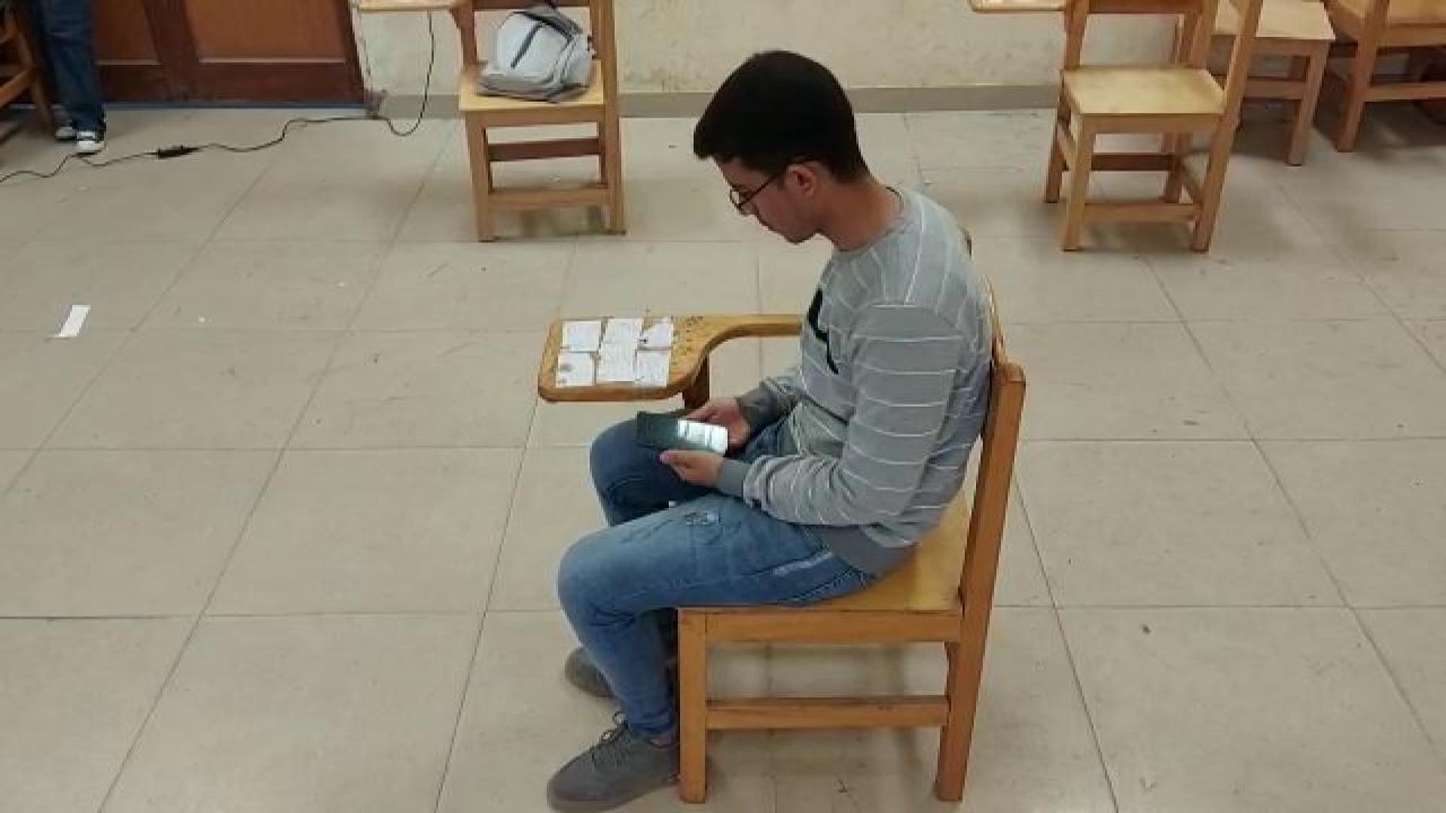phone: (626, 407, 732, 448)
